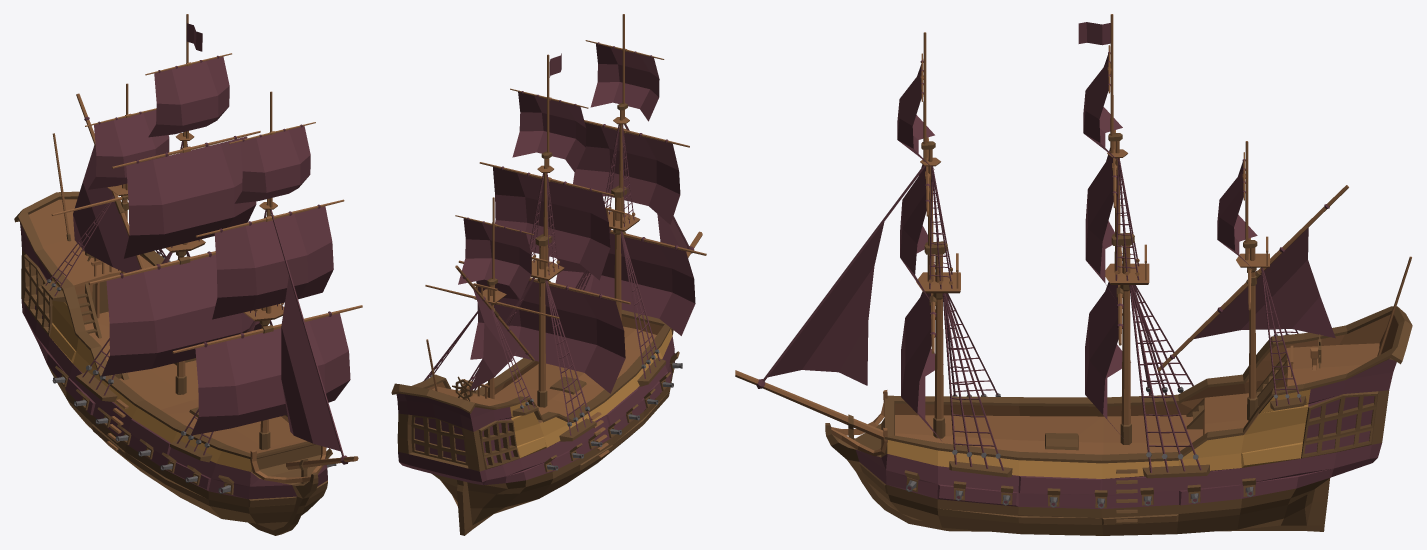
File: ship-colonial-flags.fbx
The picture shows the model from 3 angles, left to right: view 1: azimuth 30°, elevation 25°; view 2: azimuth 150°, elevation 25°; view 3: azimuth 270°, elevation 25°; orthographic projection. The views are drawn at different scales.
Visible parts, largest first — view 1: ship-colonial-flags; view 2: ship-colonial-flags; view 3: ship-colonial-flags.
Part boxes in pixels (x1=…): ship-colonial-flags: x1=14, y1=14, x2=362, y2=535; ship-colonial-flags: x1=391, y1=14, x2=706, y2=535; ship-colonial-flags: x1=735, y1=14, x2=1412, y2=535.
Size of the model in its own units: 12.22 by 28.51 by 33.91.
